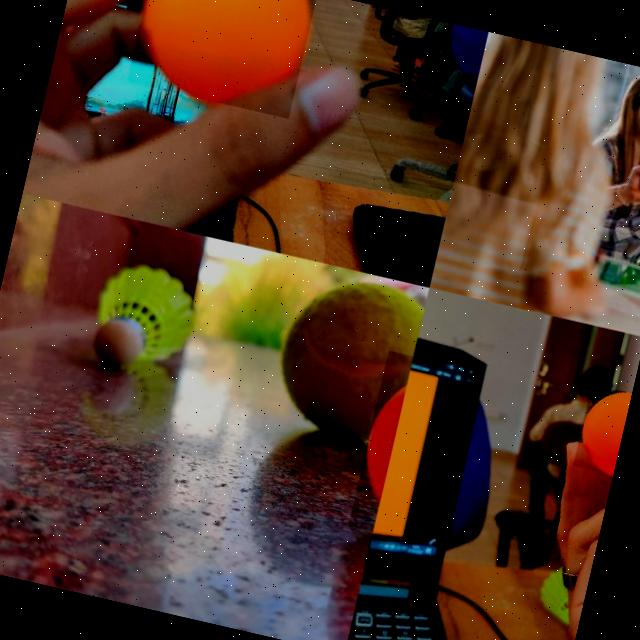ping-pong-ball: (125, 0, 318, 119), (571, 382, 632, 474)
